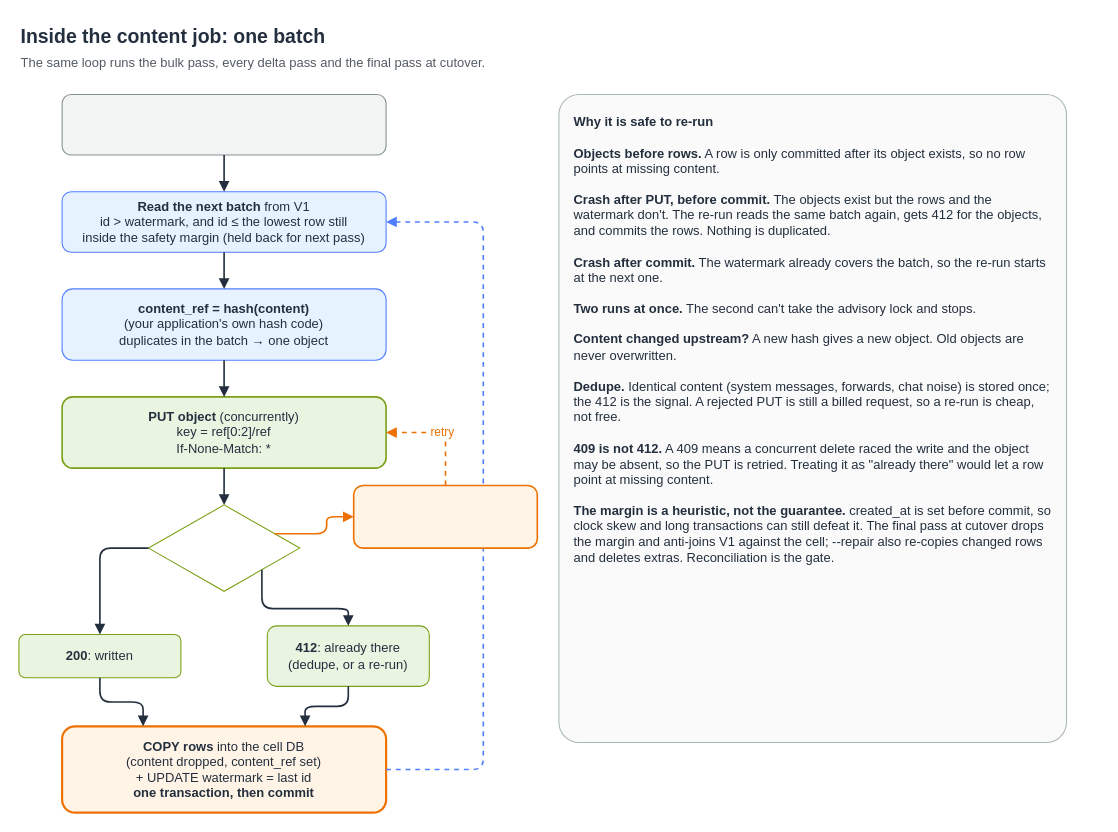
This 1118x832 diagram has some shape labels left out. Each missing label, with the centre of its shape:
"409 : raced a delete object may be absent retry the PUT" belongs at pixel 445 516.
"response?" belongs at pixel 223 547.
"Take the per-tenant advisory lock read watermark from migration.org_state" belongs at pixel 223 124.
